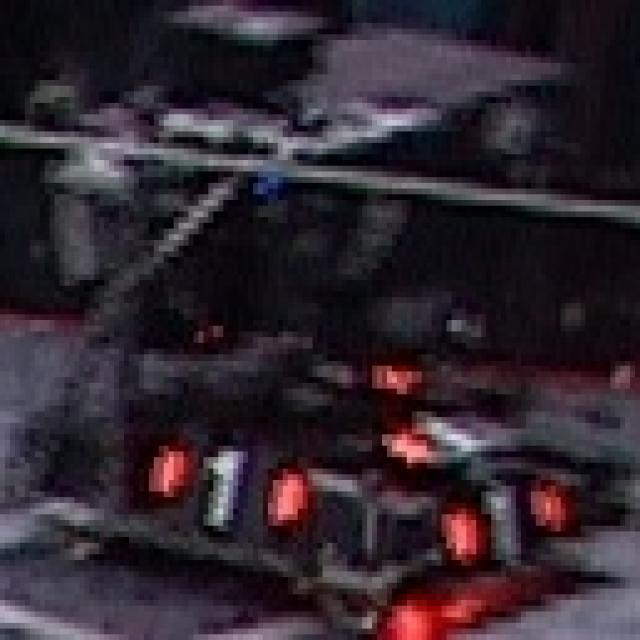R1: (151, 429, 320, 537), (432, 466, 570, 568), (374, 400, 534, 457)
